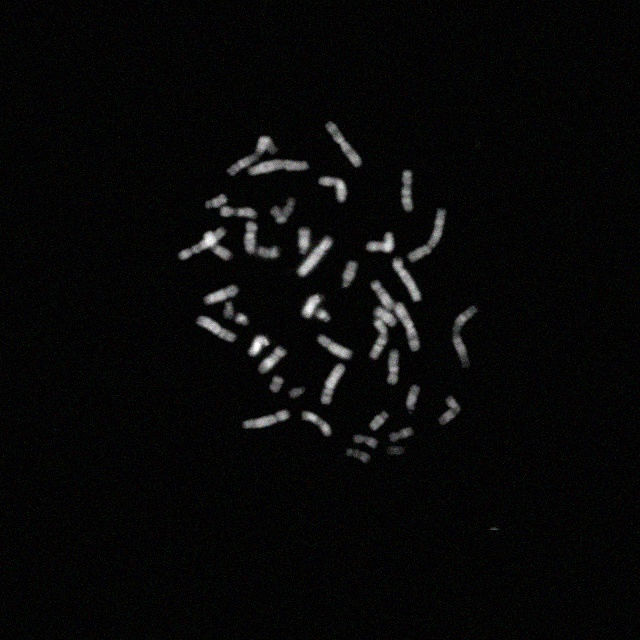chromosome: (407, 208, 445, 262), (226, 136, 278, 174), (326, 121, 362, 167), (452, 308, 478, 367), (179, 228, 227, 258), (299, 236, 331, 278), (396, 302, 422, 352), (394, 258, 422, 300), (197, 314, 235, 342), (322, 363, 346, 405), (244, 409, 288, 429), (249, 160, 309, 174), (258, 347, 286, 375), (206, 230, 232, 260), (318, 336, 352, 358), (370, 318, 388, 359), (371, 280, 394, 310), (320, 177, 346, 203), (304, 412, 330, 436), (438, 396, 460, 424), (205, 286, 238, 304), (271, 198, 295, 222), (366, 232, 394, 252), (220, 205, 258, 219), (342, 261, 360, 289), (248, 334, 270, 356), (375, 306, 397, 328), (302, 294, 322, 318), (387, 348, 399, 384), (244, 222, 258, 252), (402, 171, 412, 211), (369, 410, 388, 430), (352, 434, 378, 448), (388, 427, 414, 441), (347, 449, 369, 465), (405, 386, 419, 410), (298, 228, 310, 255), (258, 244, 278, 260), (204, 195, 226, 209), (288, 386, 306, 399), (235, 313, 251, 327), (269, 376, 283, 392), (386, 446, 406, 456), (316, 310, 332, 322), (224, 302, 233, 320)
